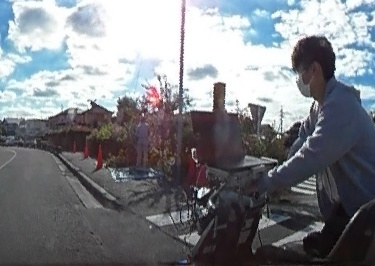person: (254, 32, 375, 261), (134, 115, 151, 165)
